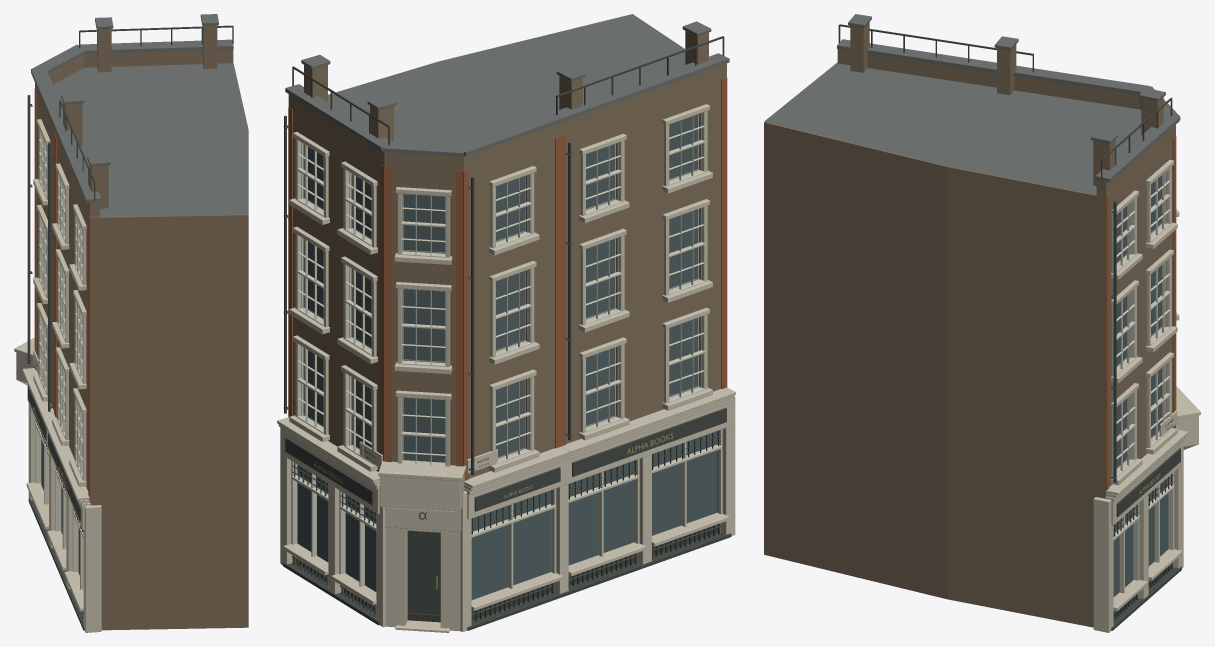
The model's file is por-exterior-f46238e82814.glb.
The picture shows the model from 3 angles, left to right: view 1: azimuth 30°, elevation 25°; view 2: azimuth 150°, elevation 25°; view 3: azimuth 270°, elevation 25°; orthographic projection. The views are drawn at different scales.
Visible parts, largest first — view 1: POR.001; view 2: POR.001; view 3: POR.001.
Part boxes in pixels (x1,y1,x2,y2): POR.001: [14, 14, 248, 632]; POR.001: [277, 14, 735, 632]; POR.001: [764, 14, 1200, 632].
Size of the model in its own units: 10.36 by 15.95 by 13.1.
